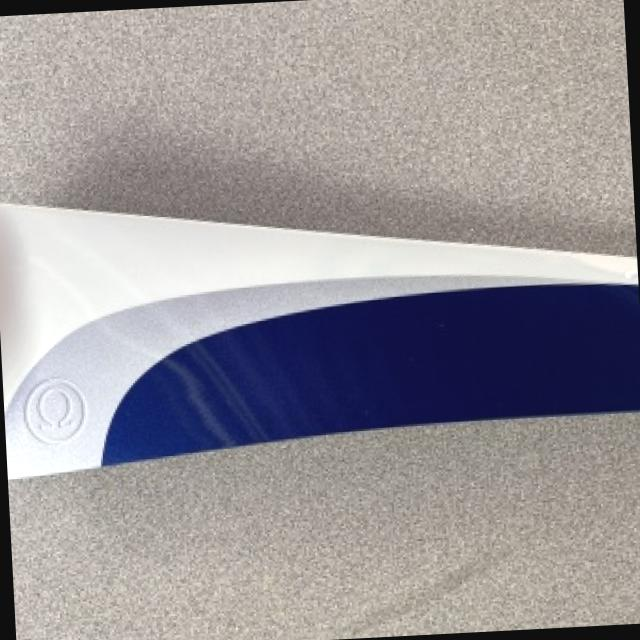healthy: (0, 201, 640, 477)
